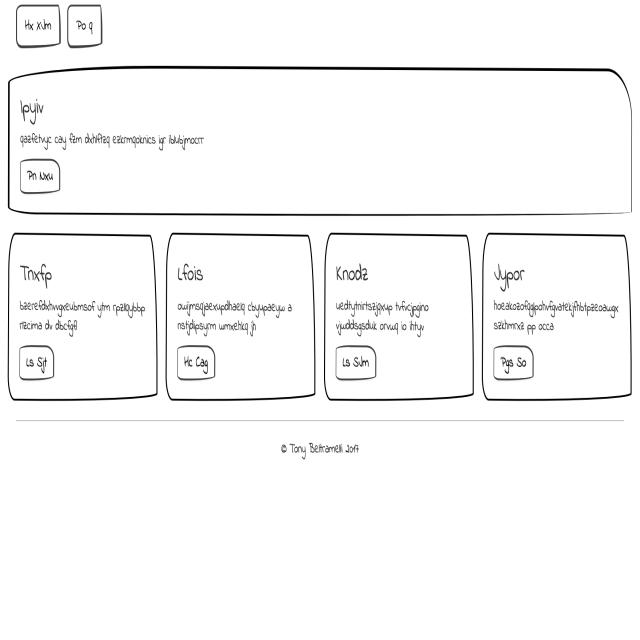Button: (492, 340, 534, 385), (18, 155, 61, 197), (337, 343, 378, 386), (173, 345, 218, 383), (18, 343, 56, 381)
Card: (5, 63, 636, 222), (165, 230, 317, 408), (4, 229, 158, 402), (480, 226, 633, 400), (326, 230, 477, 404)
Footer: (0, 413, 640, 640)
Heading 6: (492, 260, 528, 298), (20, 256, 60, 290), (17, 88, 51, 125), (332, 260, 373, 288), (174, 258, 207, 285)
Navigation Bar: (13, 3, 105, 50)
Paragraph: (15, 294, 151, 342), (176, 297, 298, 343), (492, 295, 623, 337), (330, 294, 438, 342), (14, 125, 204, 152)
